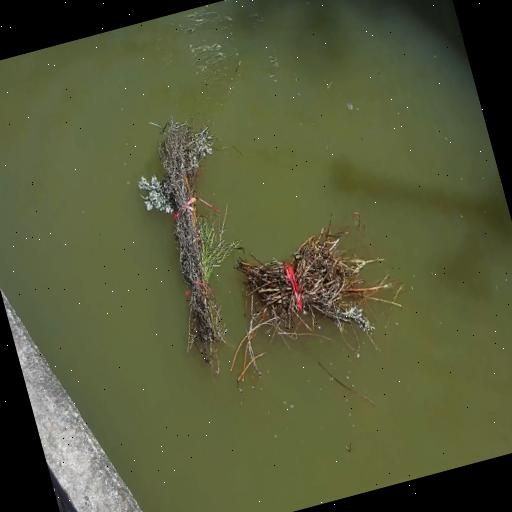twig: (118, 111, 264, 376), (216, 221, 370, 381)
